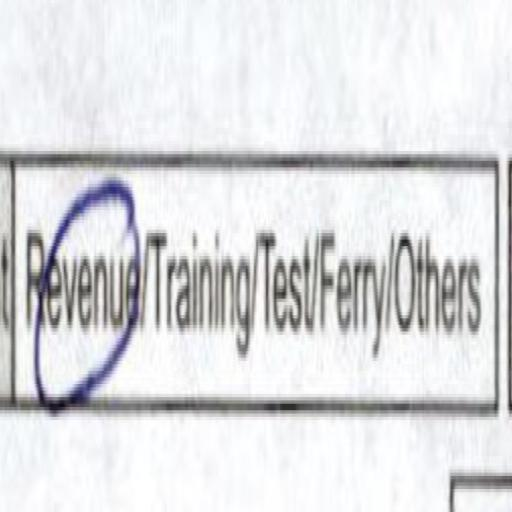check: (24, 124, 146, 446)
